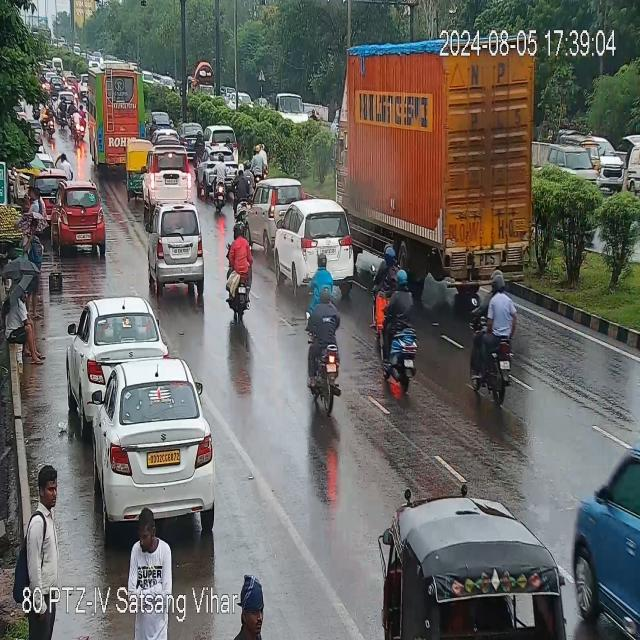2-wheelers: (466, 276, 522, 398), (374, 239, 419, 381), (304, 260, 345, 411), (227, 227, 256, 323), (207, 158, 244, 211), (40, 95, 70, 134), (73, 99, 84, 142), (150, 118, 158, 130)
auto: (378, 496, 564, 639), (125, 140, 152, 176), (584, 134, 603, 178)
bus: (87, 60, 149, 166)
car: (80, 361, 216, 528), (571, 437, 639, 639), (73, 298, 163, 397), (275, 202, 360, 278), (140, 202, 204, 287), (245, 180, 309, 238), (51, 183, 106, 248), (138, 152, 194, 209), (552, 142, 592, 181), (27, 217, 41, 318), (47, 66, 85, 99), (602, 136, 624, 190), (272, 94, 306, 124), (204, 127, 242, 152), (183, 123, 208, 141), (153, 133, 185, 146), (151, 109, 169, 126)
pedestrian: (25, 466, 67, 597), (123, 515, 178, 597), (3, 277, 46, 366), (237, 573, 264, 640), (30, 188, 48, 225)
truck: (338, 38, 543, 283), (189, 64, 216, 98)
